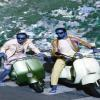motorcycles: (67, 53, 100, 97), (10, 57, 47, 94)
